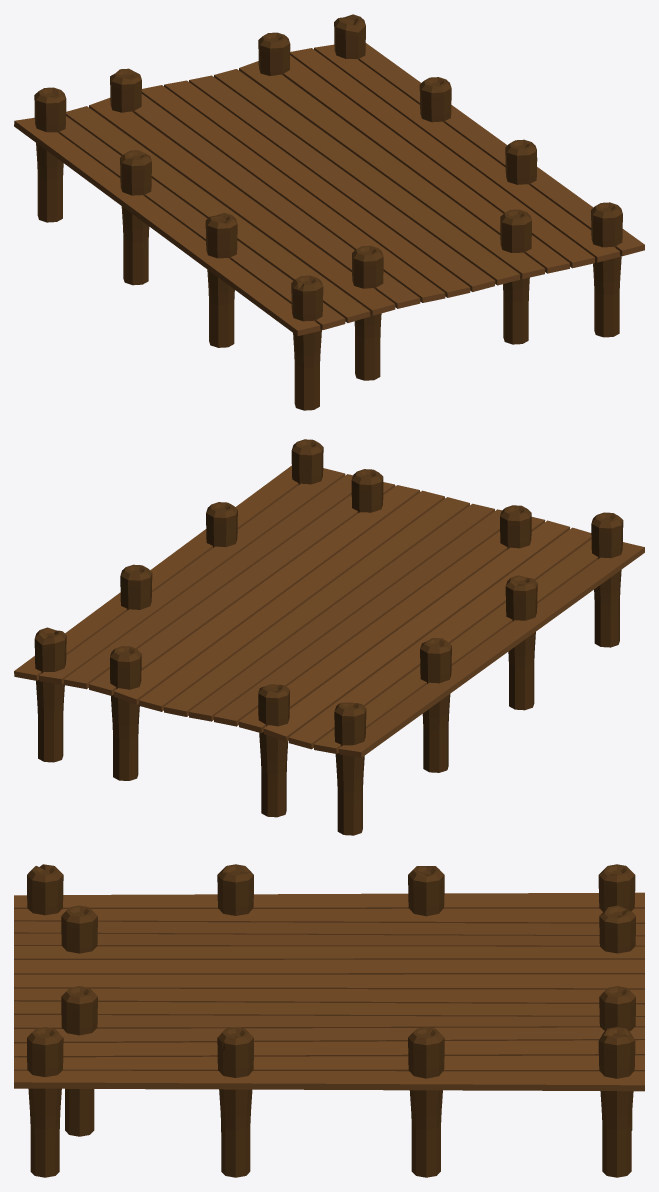
3 renders of one model, top to bottom at view 1: azimuth 30°, elevation 25°; view 2: azimuth 150°, elevation 25°; view 3: azimuth 270°, elevation 25°, orthographic. The views are drawn at different scales.
Visible parts, largest first — view 1: E_A_Base; view 2: E_A_Base; view 3: E_A_Base.
Boxes of the visible parts, x1,y1,x2,y2 form: E_A_Base: (14,14,644,410); E_A_Base: (14,439,644,835); E_A_Base: (14,864,644,1177).
Bounding box in the file's own units: 655 × 225 × 925.
